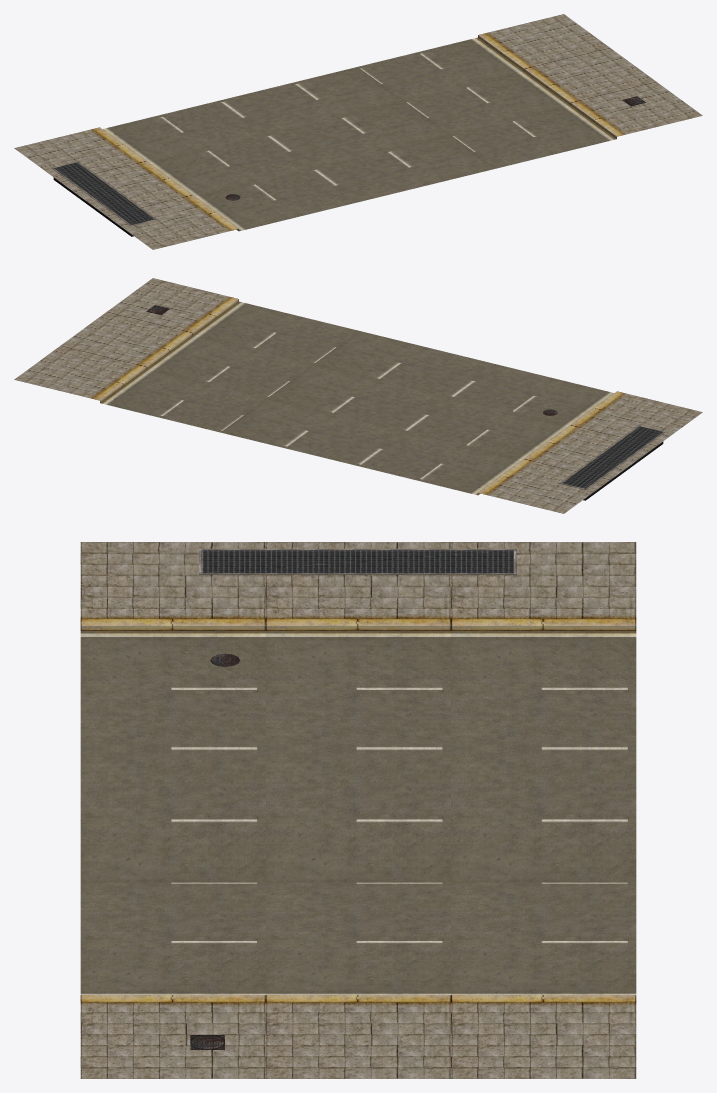
The model's file is Road2_Part_03_B.fbx.
The picture shows the model from 3 angles, top to bottom: view 1: azimuth 30°, elevation 25°; view 2: azimuth 150°, elevation 25°; view 3: azimuth 270°, elevation 25°; orthographic projection. The views are drawn at different scales.
Visible parts, largest first — view 1: Model_Road2_Part_03_B; view 2: Model_Road2_Part_03_B; view 3: Model_Road2_Part_03_B.
Part boxes in pixels (x1=…): Model_Road2_Part_03_B: x1=14, y1=14, x2=702, y2=249; Model_Road2_Part_03_B: x1=14, y1=278, x2=702, y2=513; Model_Road2_Part_03_B: x1=80, y1=542, x2=636, y2=1078.
Bounding box in the file's own units: 3200 × 65.51 × 1400.
